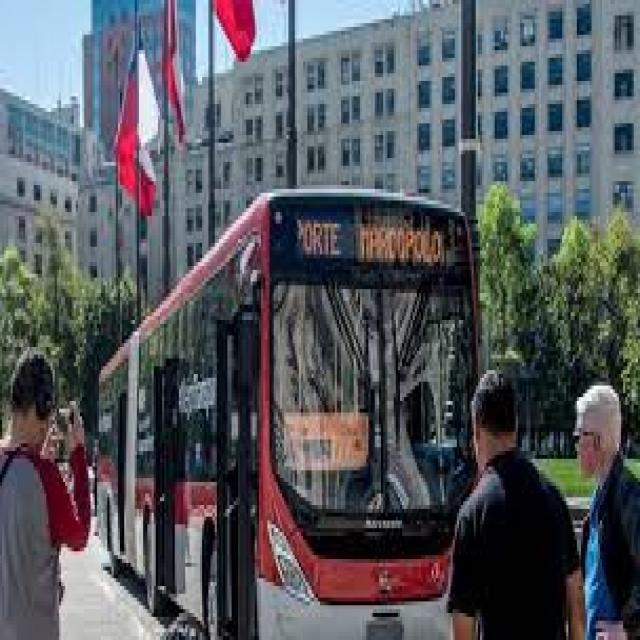AB: (93, 193, 486, 640)
